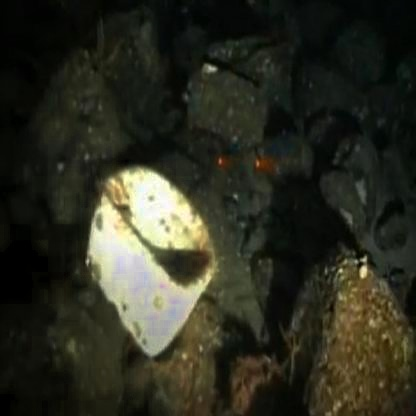plastic: (86, 191, 226, 358)
